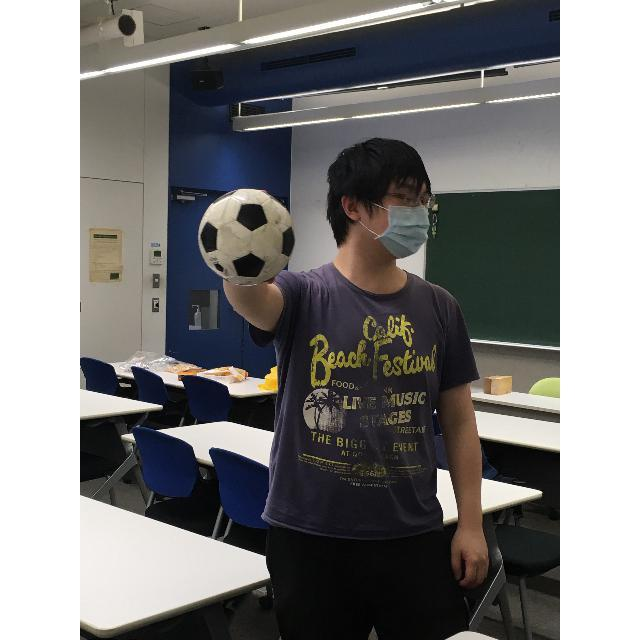ball: (201, 188, 293, 286)
